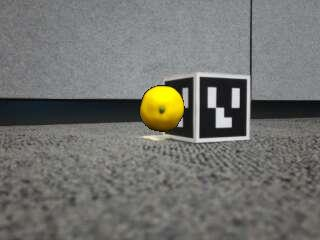lemon: (140, 85, 184, 131)
